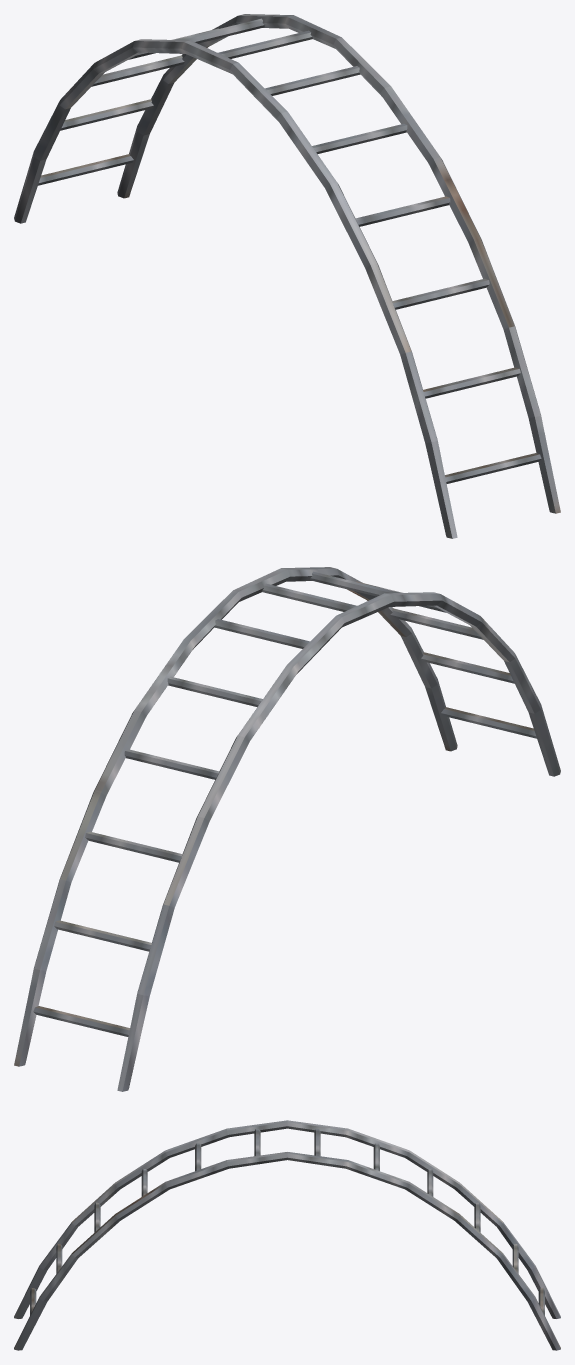
Rendered from ClimbingFrame.fbx.
3 renders of one model, top to bottom at view 1: azimuth 30°, elevation 25°; view 2: azimuth 150°, elevation 25°; view 3: azimuth 270°, elevation 25°, orthographic. The views are drawn at different scales.
Visible parts, largest first — view 1: ClimbingFrame; view 2: ClimbingFrame; view 3: ClimbingFrame.
Boxes of the visible parts, bbox=[...] form: ClimbingFrame: bbox=[14, 14, 560, 538]; ClimbingFrame: bbox=[14, 567, 560, 1091]; ClimbingFrame: bbox=[14, 1120, 560, 1350].
Bounding box in the file's own units: 86.36 × 222 × 559.
